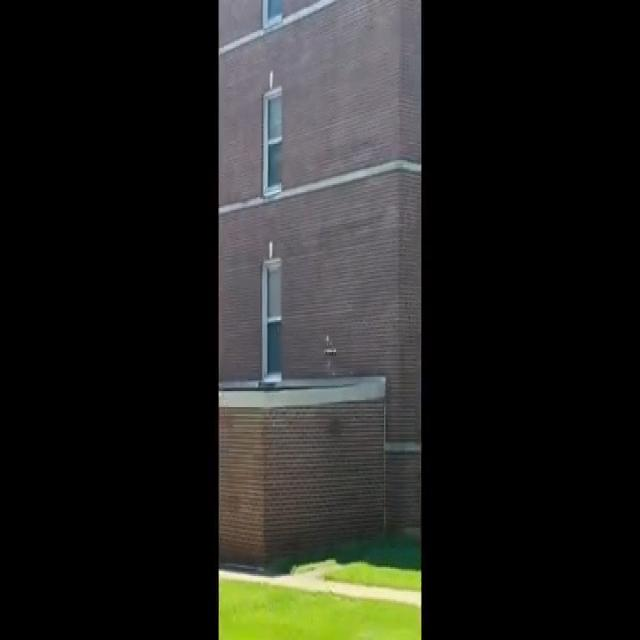drone: (320, 340, 345, 362)
